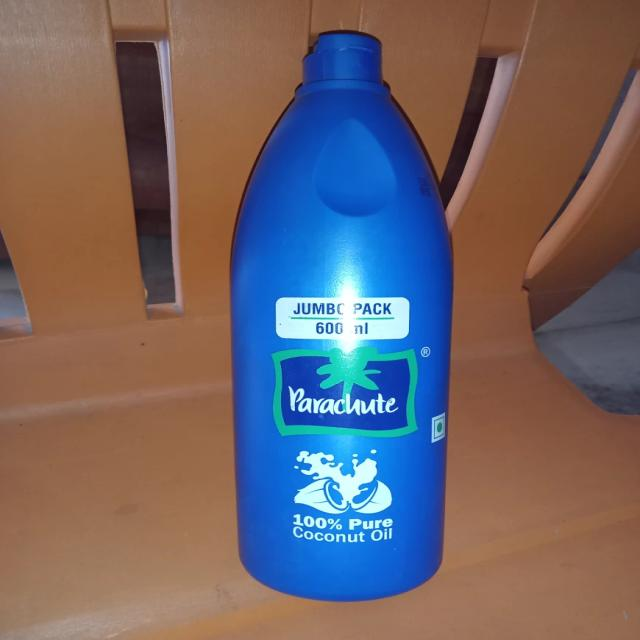parachute_oil: (239, 29, 442, 597)
